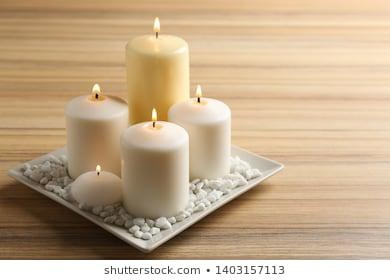fire: (89, 80, 103, 103), (192, 81, 204, 101), (151, 13, 161, 36), (149, 106, 159, 129), (93, 161, 102, 175)
